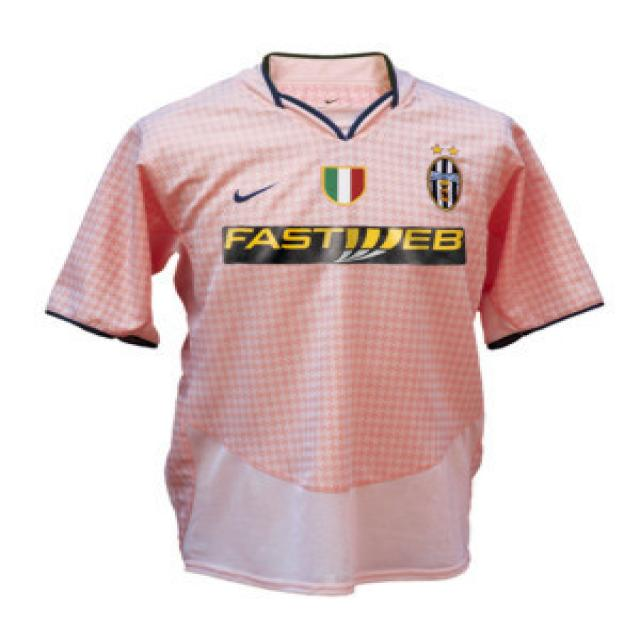shirt: (39, 23, 616, 608)
